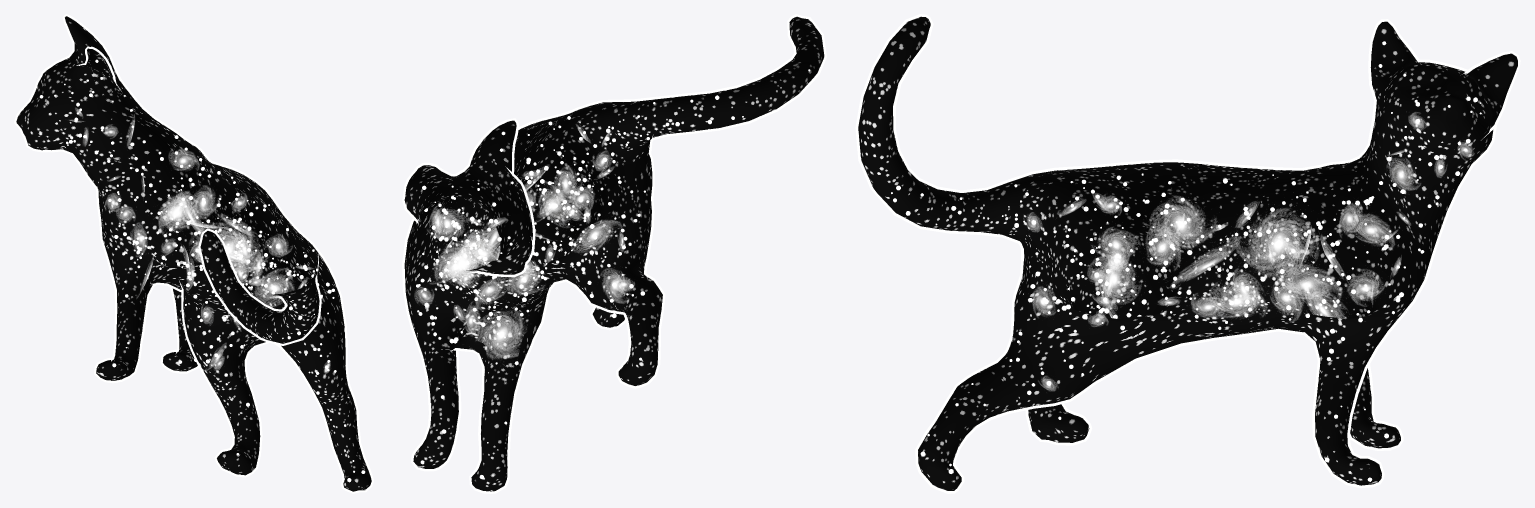
Rendered from cat.glb.
3 views of the same model, side by side, from view 1: azimuth 30°, elevation 25°; view 2: azimuth 150°, elevation 25°; view 3: azimuth 270°, elevation 25° (orthographic). The views are drawn at different scales.
Visible parts, largest first — view 1: model_0, model_4, model_1, model_5; view 2: model_0, model_4, model_1, model_5; view 3: model_0, model_4, model_1, model_5.
Boxes of the visible parts, box(x1,y1,x2,y2) form: model_0: box(16, 16, 371, 491); model_4: box(69, 108, 330, 373); model_1: box(14, 14, 373, 493); model_5: box(39, 59, 365, 482); model_0: box(404, 16, 824, 491); model_4: box(414, 124, 634, 370); model_1: box(402, 14, 826, 493); model_5: box(416, 69, 810, 479); model_0: box(858, 16, 1517, 490); model_4: box(1023, 112, 1474, 390); model_1: box(855, 14, 1520, 493); model_5: box(878, 41, 1481, 481).
Bounding box in the file's own units: 77.92 × 123 × 178.
4 materials, 2 textured.
